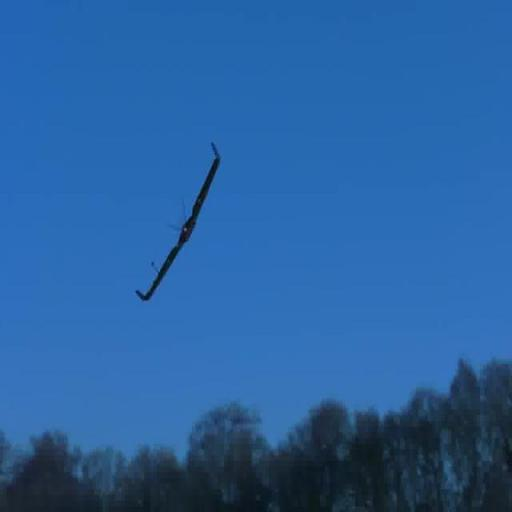uav: (132, 138, 226, 306)
